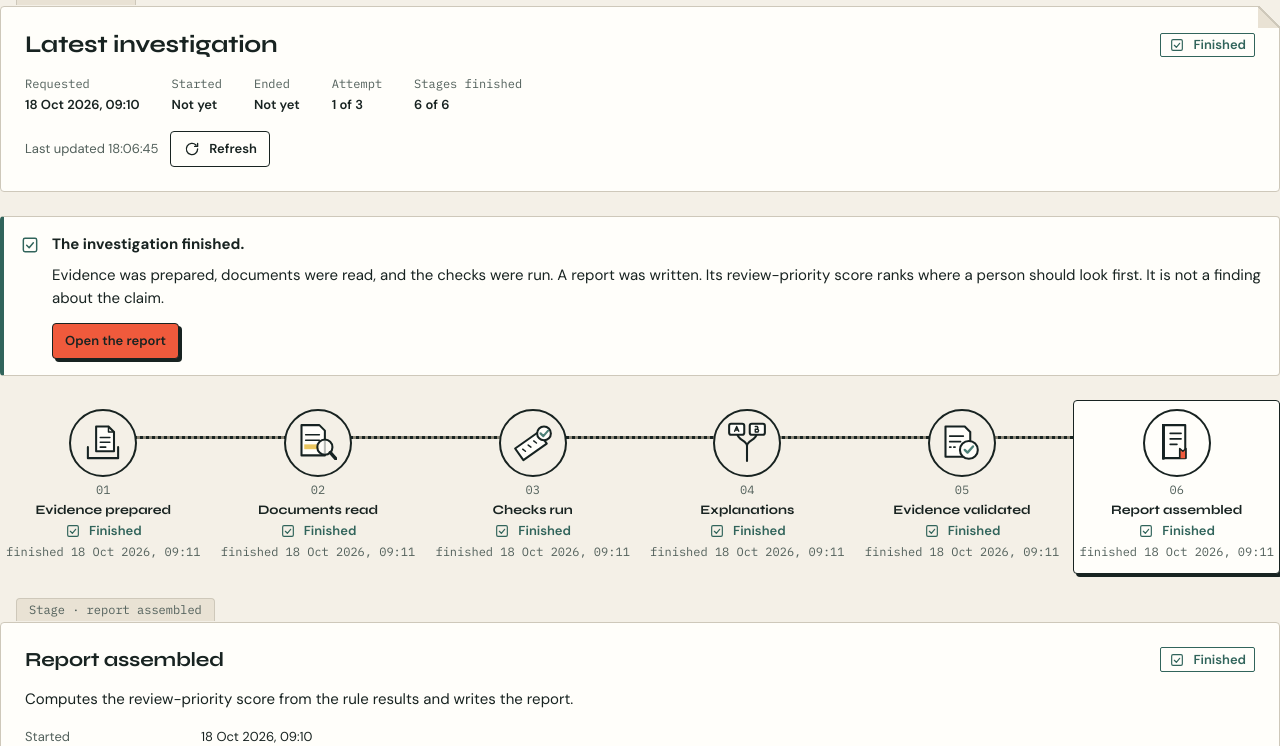
Test case: the route › shows what the explanation, validation and report stages did, in counts
This screenshot has width=1280, height=746.
Expected: the element named "Investigation route" is shown, [0,400,1279,574]
Click the button "04 Explanations Finished finished 18 Oct 2026, 09:11" at (747, 487), box [644,400,851,574]
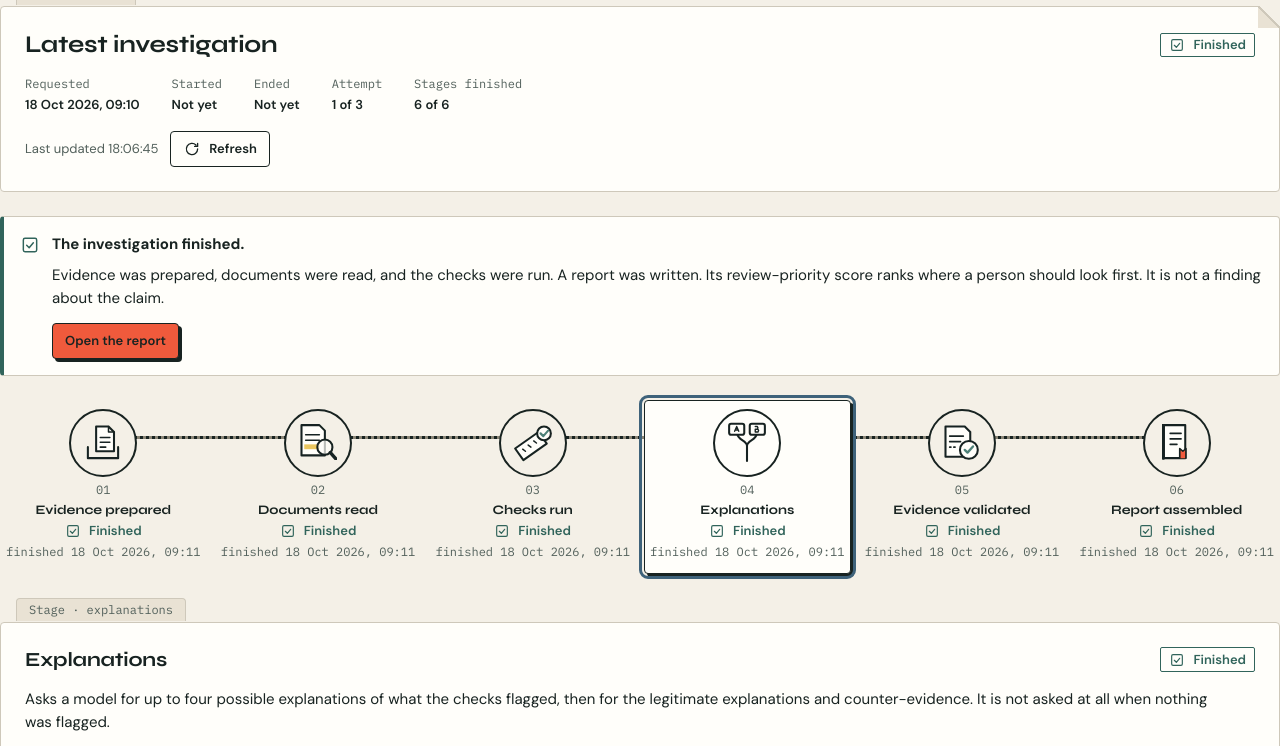
Click the button "05 Evidence validated Finished finished 18 Oct 2026, 09:11" at (962, 487), box [859,400,1065,574]
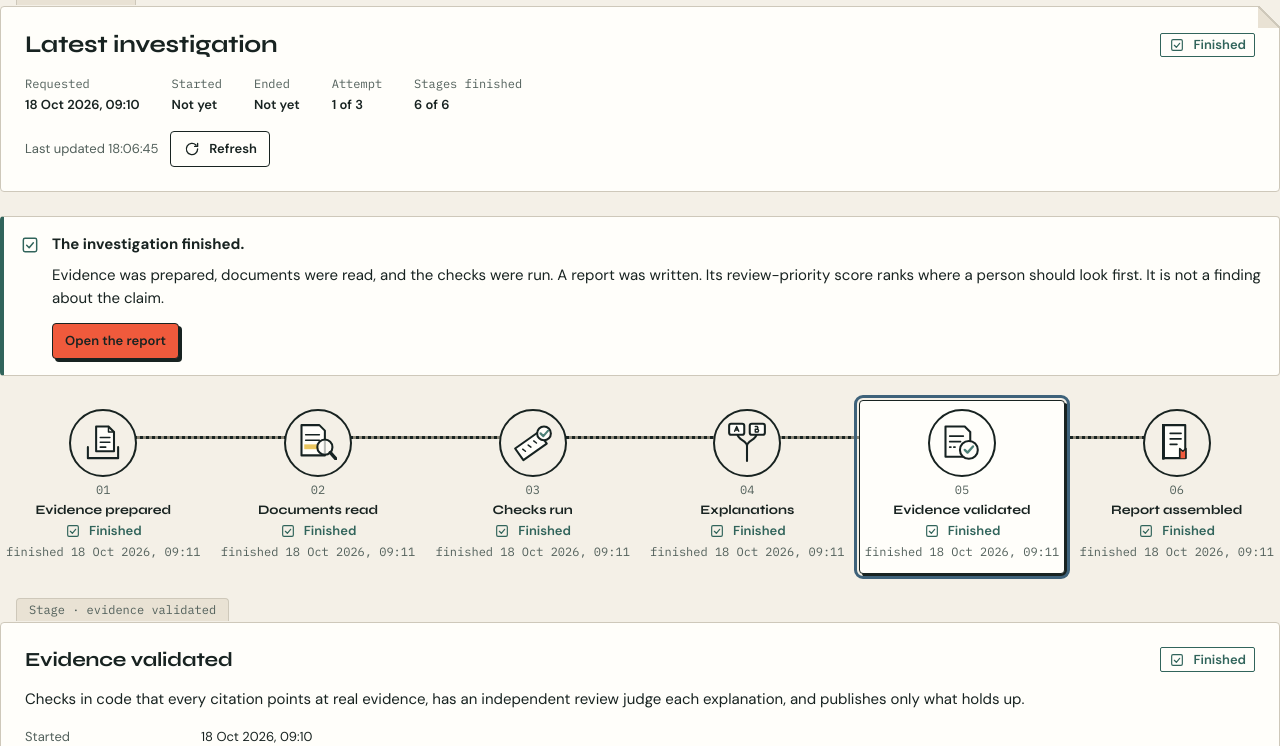
Click the button "06 Report assembled Finished finished 18 Oct 2026, 09:11" at (1177, 487), box [1073,400,1279,574]
(page scrolled)
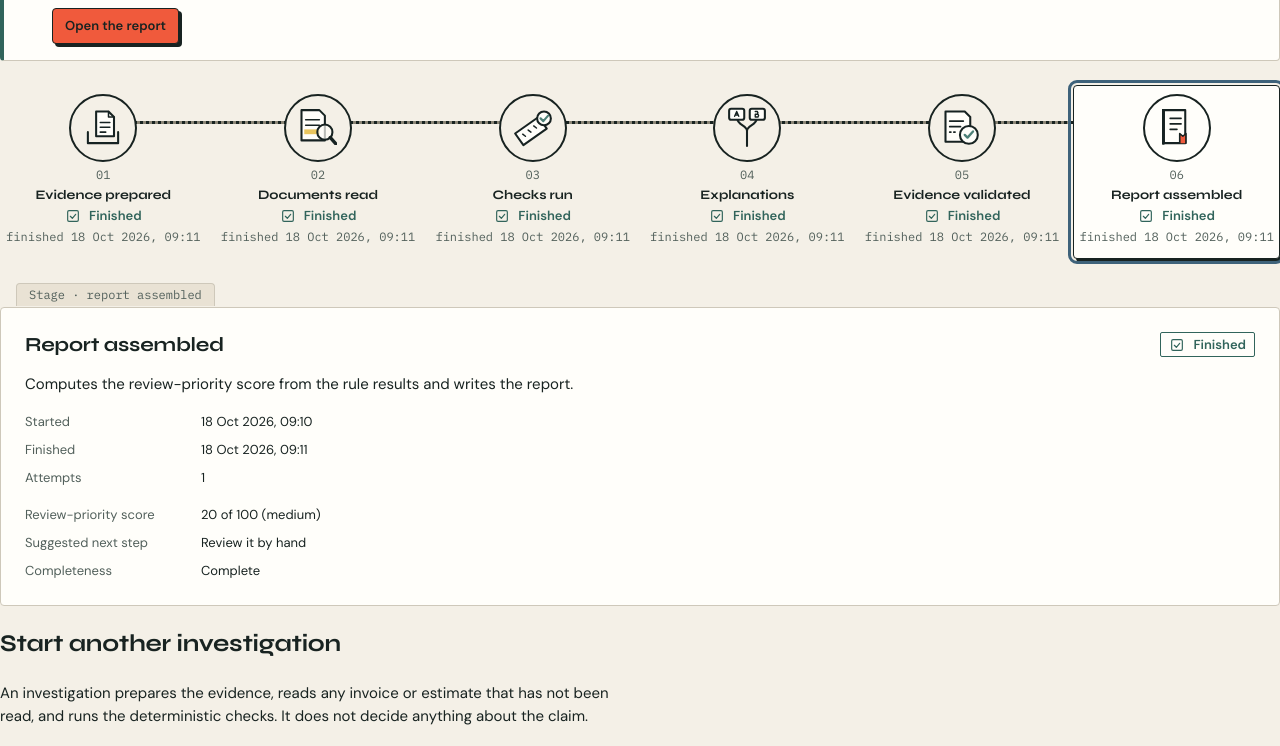
Now the element named "Details of Report assembled" shows "20 of 100 (medium)", box [25,332,1255,581]
Now the element named "Details of Report assembled" shows "Review it by hand", box [201,534,306,551]
